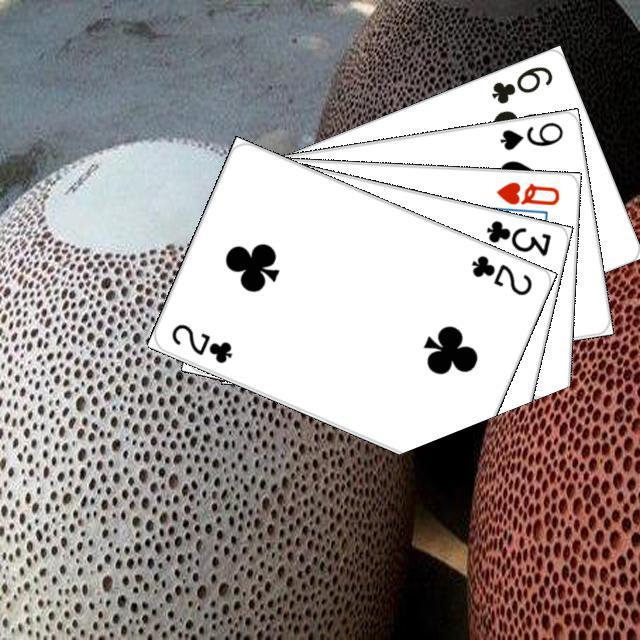2c: (466, 250, 534, 298), (166, 319, 234, 365)
3c: (481, 215, 553, 258)
6c: (486, 61, 555, 106)
9s: (495, 117, 565, 152)
Qh: (491, 176, 561, 207)
